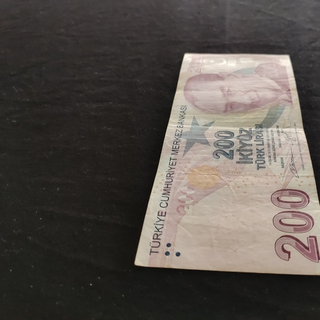200TLFront: (133, 52, 320, 276)
